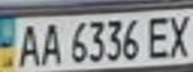3: (84, 17, 109, 63), (103, 16, 127, 63)
6: (121, 15, 148, 61), (63, 18, 87, 64)
A: (12, 20, 42, 69), (36, 19, 63, 66)
E: (145, 12, 175, 60)
X: (163, 11, 193, 58)
